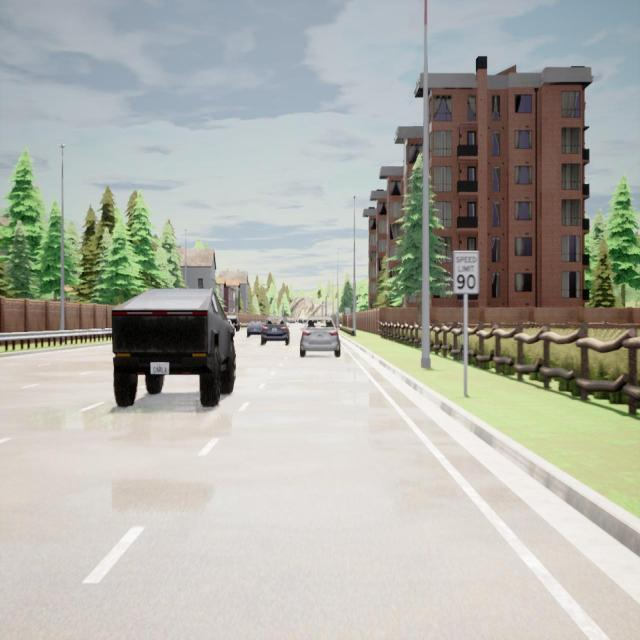Traffic_Signs: (453, 252, 479, 293), (346, 308, 350, 316)
Vehicle: (112, 289, 237, 406), (300, 316, 341, 358), (261, 317, 290, 346), (247, 320, 262, 337), (226, 315, 240, 332)
